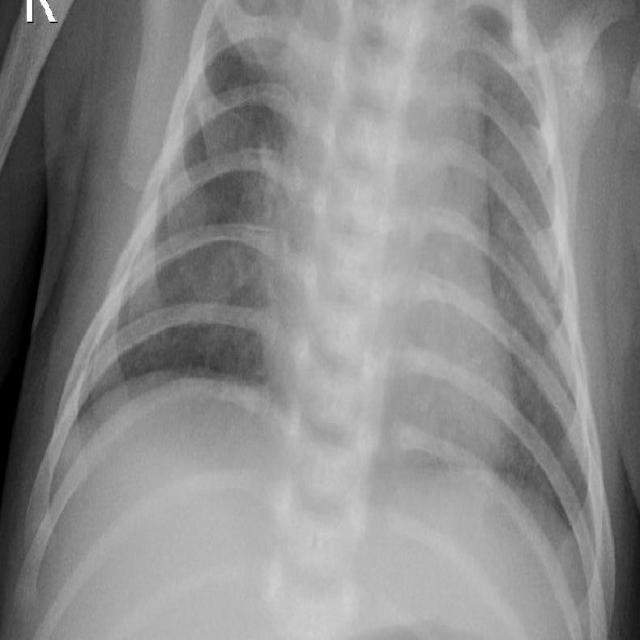low-pneumonia: (199, 123, 284, 364), (520, 104, 573, 382), (255, 4, 333, 135)
